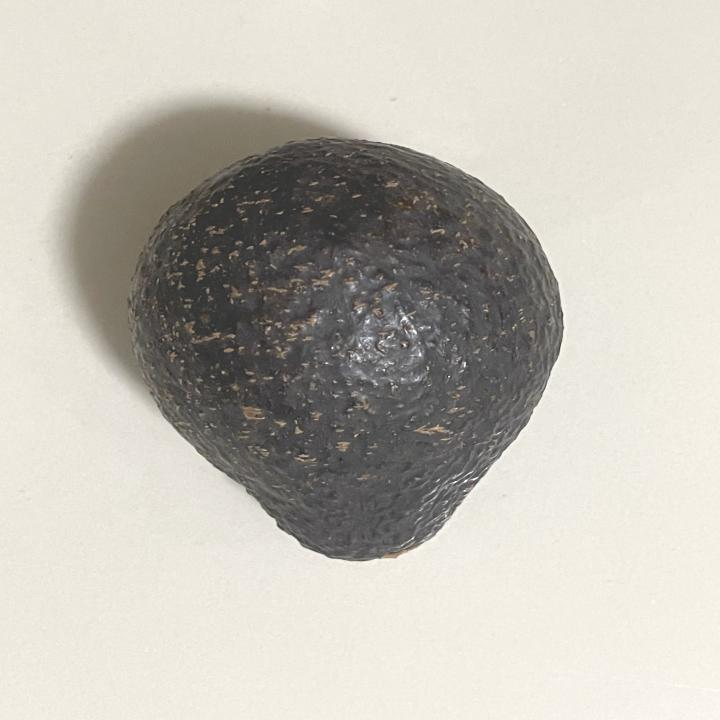Level2: (121, 131, 573, 572)
